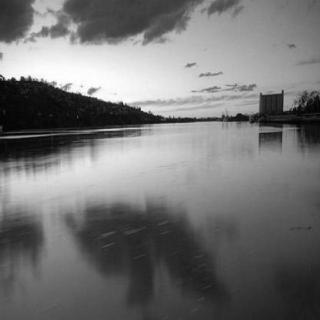other: (27, 57, 119, 105)
